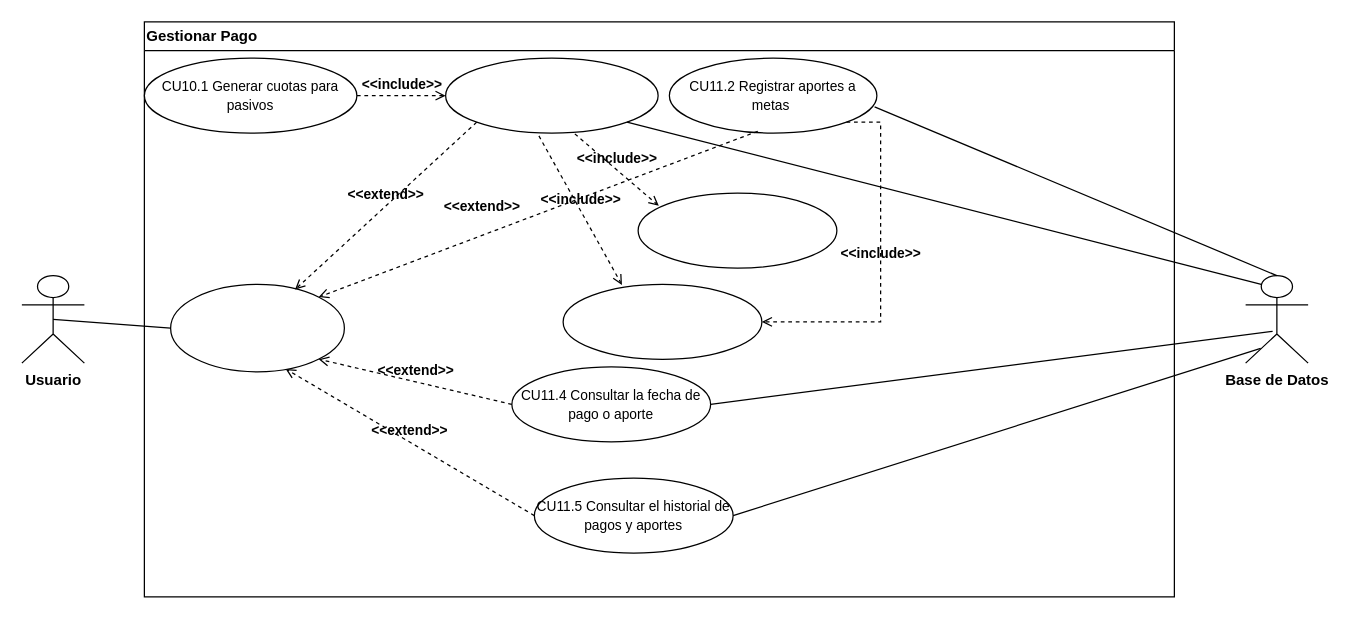
Some shapes in this 1350 by 619 pixel diagram are drawn without their labels. The shapes that lost their labels are listed below. From the top down, each one's box as (x1, y1, x2, y2) in pixels, then its label:
(444, 57, 658, 133): CU11.1 R egistrar pagos sobre cuotas de pasivos
(637, 192, 837, 268): CU11.3 In dicar si el pago de un pasivo es anticipado
(169, 283, 344, 372): CU11 Gestionar pago
(562, 283, 762, 359): CU11.6 V alidar el impacto del pago o aporte
